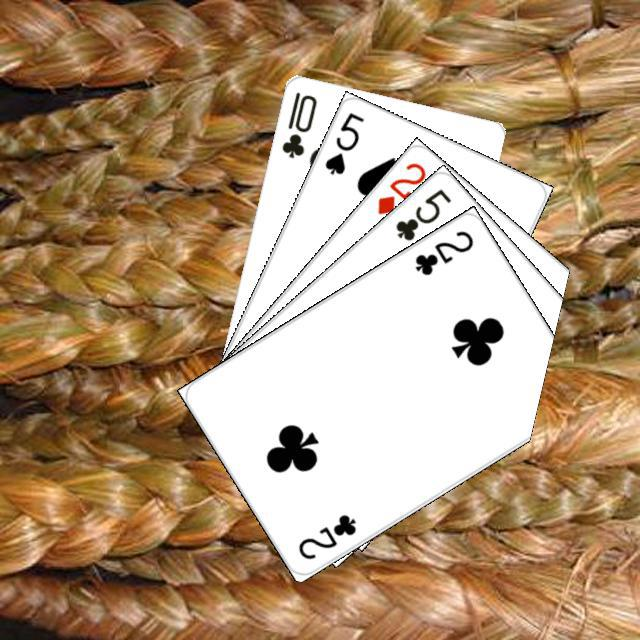10c: (276, 87, 319, 160)
2c: (410, 225, 475, 278), (293, 509, 358, 562)
2d: (372, 157, 428, 217)
5c: (390, 184, 453, 243)
5s: (320, 107, 366, 177)
